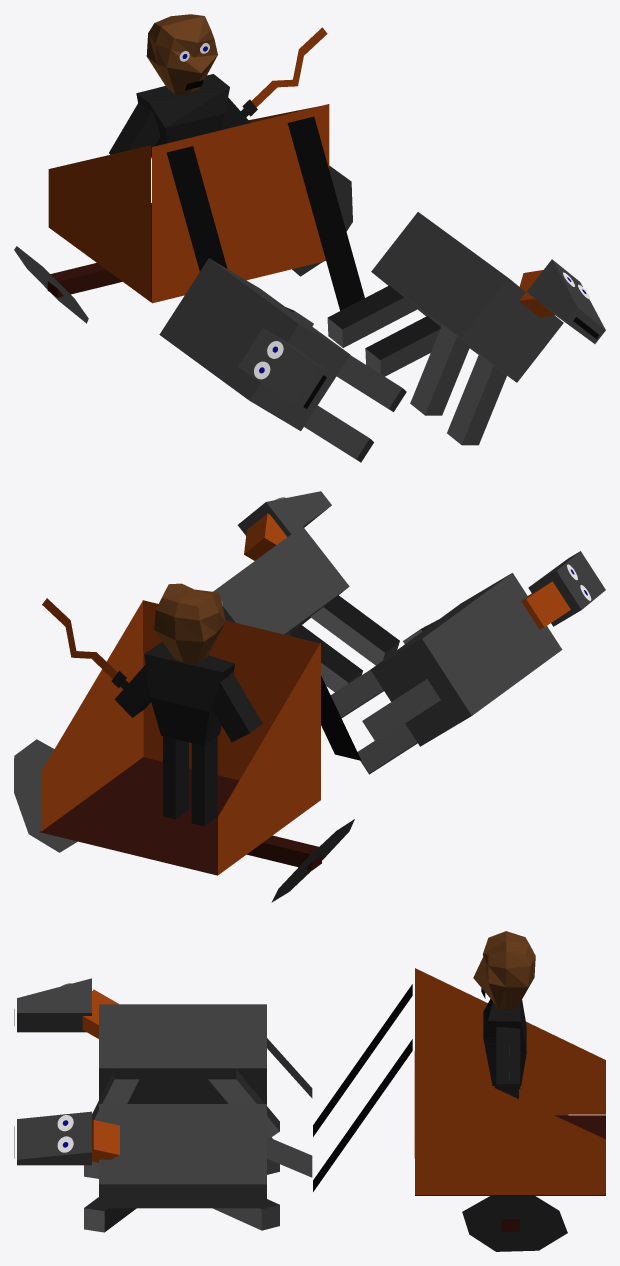
Rendered from heavychariot1d.obj.
3 renders of one model, top to bottom at view 1: azimuth 30°, elevation 25°; view 2: azimuth 150°, elevation 25°; view 3: azimuth 270°, elevation 25°, orthographic. The views are drawn at different scales.
Parts seen in each view (by area): view 1: Plane.005_Plane.006, Cube.006_Cube.009, Cube.015_Cube.017, Plane.003, Plane.013_Plane.014, Cube, Cube.001, Cube.021_Cube.023, Plane.012_Plane.013, Cube.011_Cube.013, Cube.012_Cube.014, Cube.009_Cube.010 (+10 smaller); view 2: Cube.015_Cube.017, Plane.003, Plane.002, Plane.004, Plane.005_Plane.006, Cube.006_Cube.009, Cube.001, Cube, Cube.012_Cube.014, Plane.006_Plane.007, Cube.021_Cube.023, Cube.004 (+14 smaller); view 3: Plane.004, Cube.006_Cube.009, Cube.015_Cube.017, Plane.003, Plane.006_Plane.007, Cube, Cube.014_Cube.016, Cube.021_Cube.023, Cube.001, Cube.002, Plane.013_Plane.014, Plane.012_Plane.013 (+9 smaller).
Part boxes in pixels (box(x1,y1,x2,y2)): Plane.005_Plane.006: box(152, 104, 329, 303); Cube.006_Cube.009: box(371, 212, 563, 382); Cube.015_Cube.017: box(159, 258, 350, 430); Plane.003: box(48, 145, 150, 301); Plane.013_Plane.014: box(287, 116, 364, 310); Cube: box(146, 14, 217, 95); Cube.001: box(136, 74, 229, 158); Cube.021_Cube.023: box(238, 328, 330, 412); Plane.012_Plane.013: box(166, 146, 227, 271); Cube.011_Cube.013: box(447, 354, 506, 445); Cube.012_Cube.014: box(410, 324, 470, 415); Cube.009_Cube.010: box(327, 285, 418, 347); Cube.015_Cube.017: box(370, 573, 562, 746); Plane.003: box(218, 642, 320, 874); Plane.002: box(39, 757, 239, 875); Plane.004: box(41, 601, 143, 831); Plane.005_Plane.006: box(142, 600, 319, 780); Cube.006_Cube.009: box(213, 526, 349, 634); Cube.001: box(144, 641, 234, 745); Cube: box(154, 583, 225, 663); Cube.012_Cube.014: box(310, 595, 399, 665); Plane.006_Plane.007: box(14, 739, 77, 852); Cube.021_Cube.023: box(528, 551, 605, 626); Cube.004: box(191, 736, 217, 826); Plane.004: box(414, 1051, 605, 1194); Cube.006_Cube.009: box(99, 1104, 266, 1208); Cube.015_Cube.017: box(99, 1004, 266, 1103); Plane.003: box(415, 968, 605, 1114); Plane.006_Plane.007: box(462, 1195, 567, 1251); Cube: box(473, 931, 535, 1009); Cube.014_Cube.016: box(17, 1111, 91, 1165); Cube.021_Cube.023: box(17, 978, 91, 1032); Cube.001: box(483, 999, 526, 1085); Cube.002: box(496, 1027, 520, 1089); Plane.013_Plane.014: box(313, 1039, 412, 1191); Plane.012_Plane.013: box(313, 984, 412, 1136).
Bounding box in the file's own units: 9.29 × 7.31 × 14.9.
